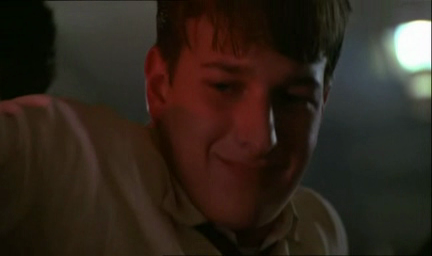cu: (1, 1, 432, 256)
face: (179, 32, 324, 228)
person: (1, 1, 351, 256)
